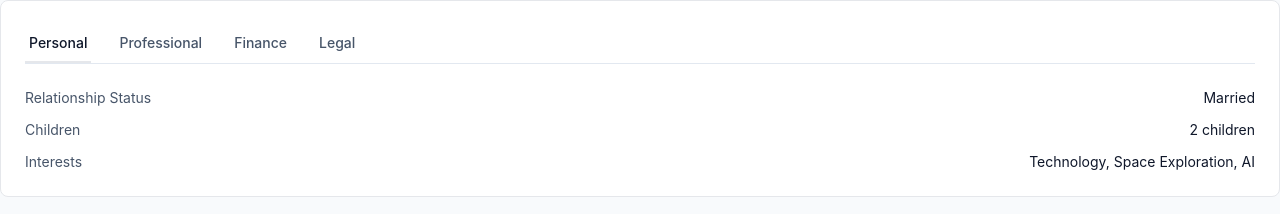
Test: CategoryTabs › switches to legal tab when clicked
Click the button "Legal" at x=337, y=44, box [315, 25, 359, 63]
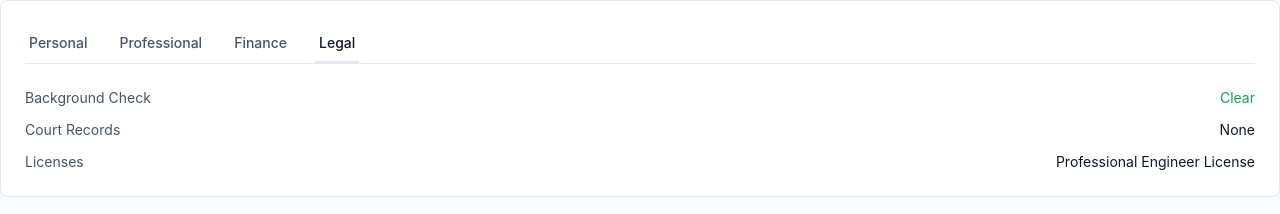
Check: the text "Background Check" is shown, box [25, 88, 151, 108]
Check: the text "Clear" is shown, box [1220, 88, 1255, 108]
Check: the text "Court Records" is shown, box [25, 120, 120, 140]
